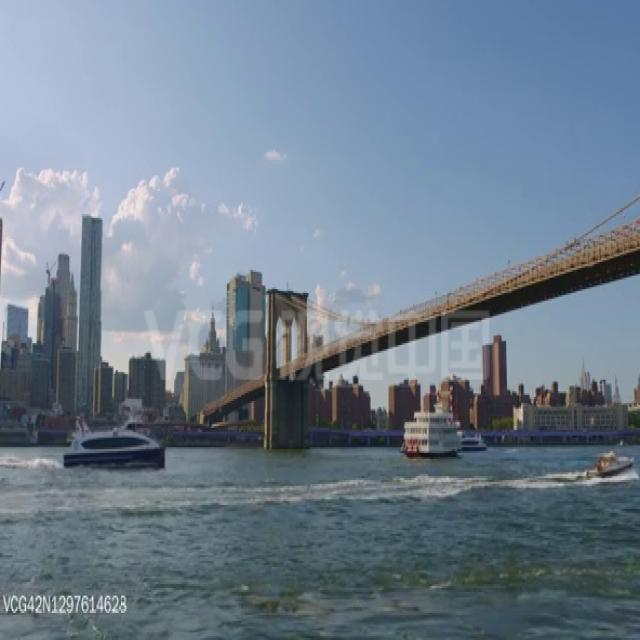houseboat: (583, 446, 636, 480)
passenger ship: (60, 409, 173, 467), (401, 404, 458, 460), (460, 433, 487, 449)
